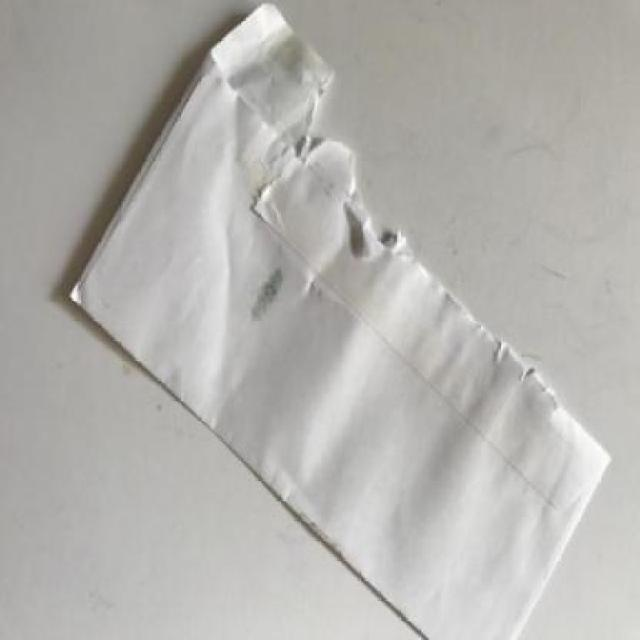PAPER: (72, 6, 616, 639)
